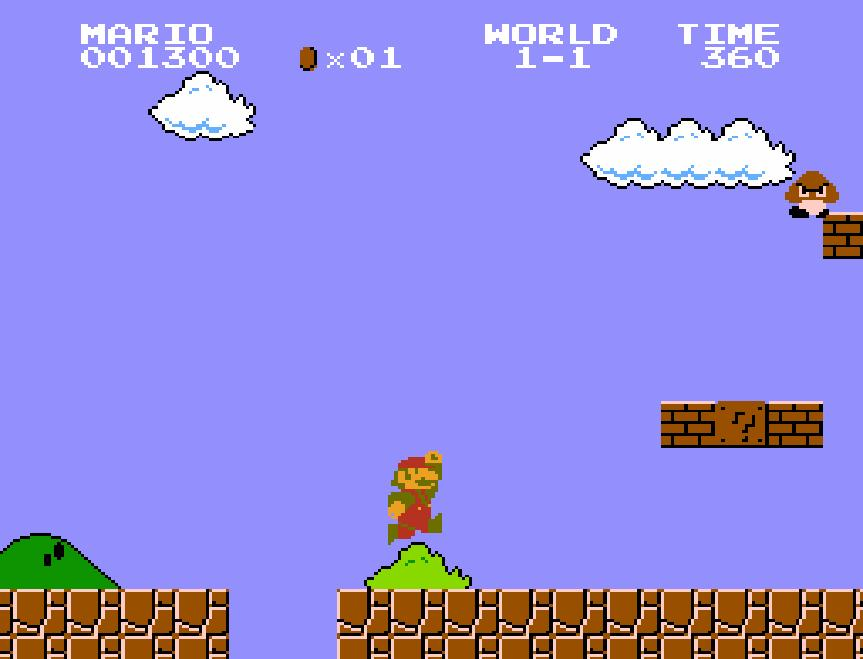big_mario: (386, 449, 444, 547)
